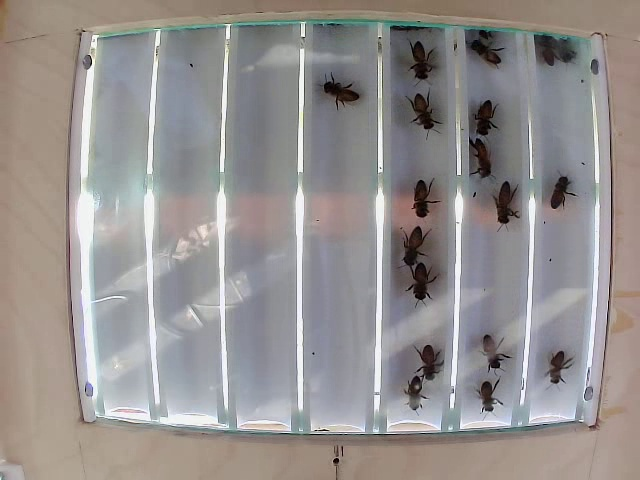bee: (321, 70, 365, 123), (496, 178, 533, 235), (394, 42, 434, 87), (394, 218, 431, 263), (409, 263, 443, 309), (404, 176, 440, 219), (398, 379, 441, 414), (406, 343, 446, 380), (467, 379, 507, 416), (474, 335, 511, 373), (468, 138, 501, 179), (468, 33, 503, 71), (403, 95, 433, 138), (470, 103, 502, 142), (534, 31, 557, 76), (543, 174, 575, 206), (542, 356, 573, 382)
